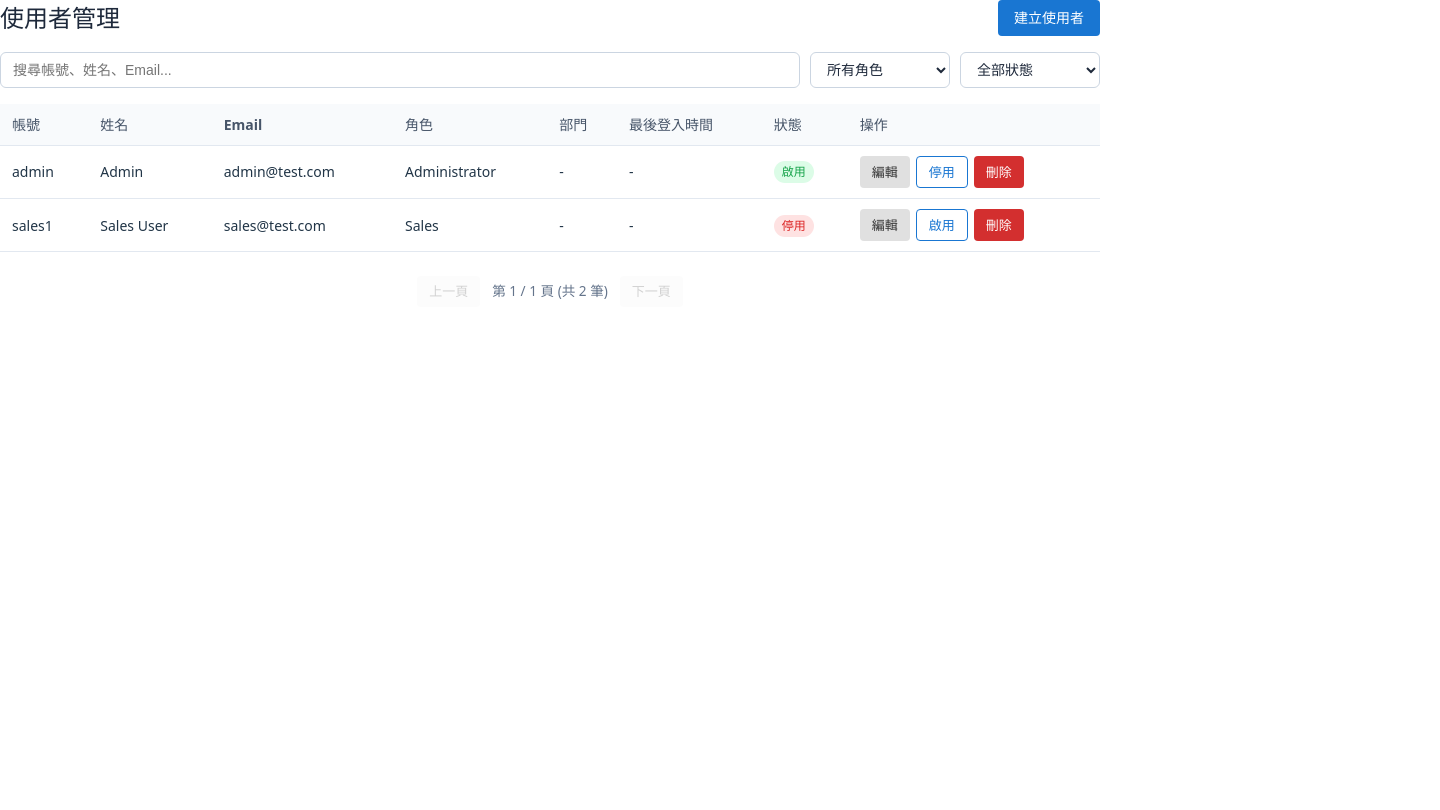
Test: UserListPage › delete button shows confirmation dialog
Check: the text "admin" is shown, box [0,145,88,199]
What coordinates should you click on to do the following:
click the button "刪除" in the row of "admin@test.com"
I would click on:
 (999, 172)
Its box is [974,156,1024,188].
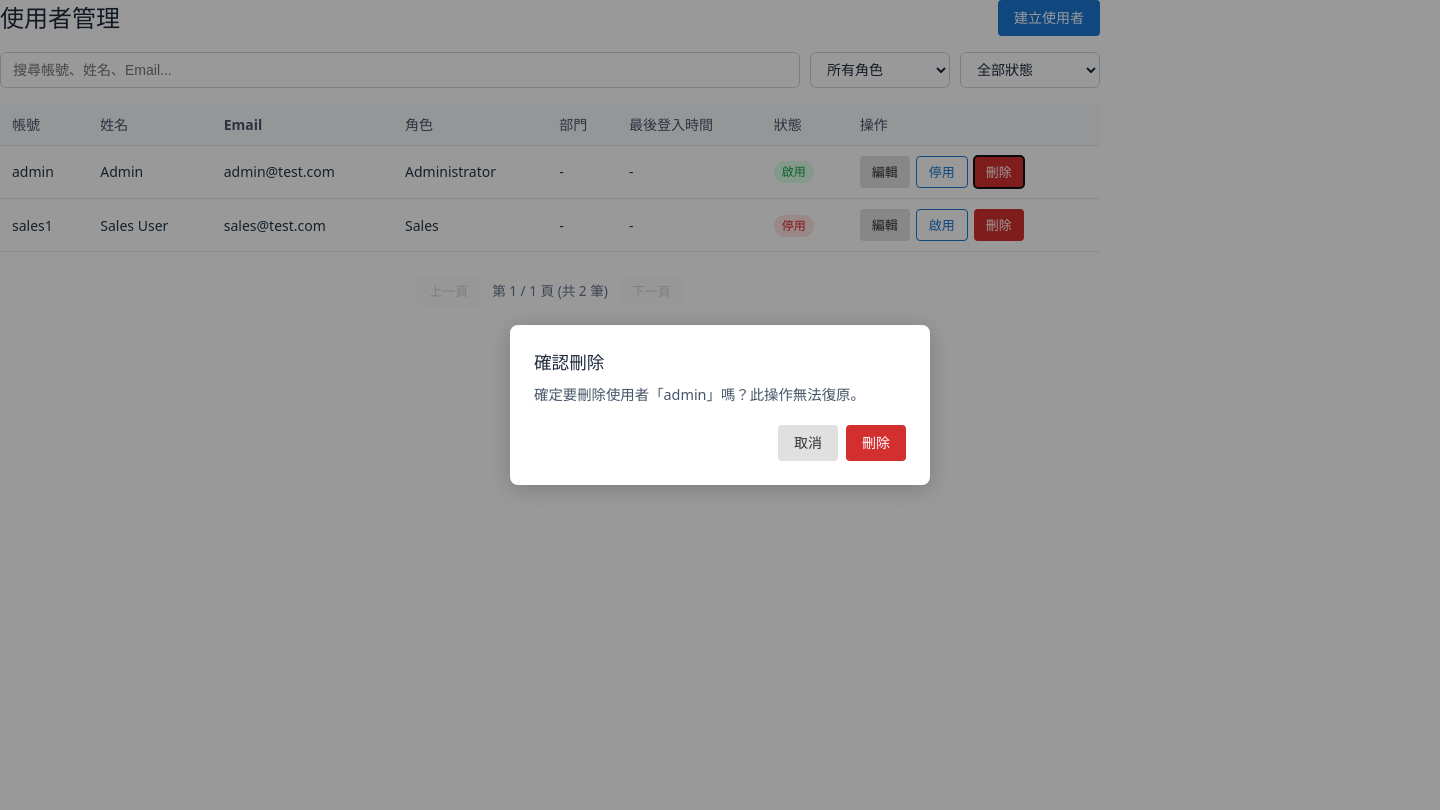
Check: the heading "確認刪除" is shown, box [534,350,604,374]
Check: the text "確定要刪除使用者「admin」嗎？此操作無法復原。" is shown, box [534,384,906,405]
